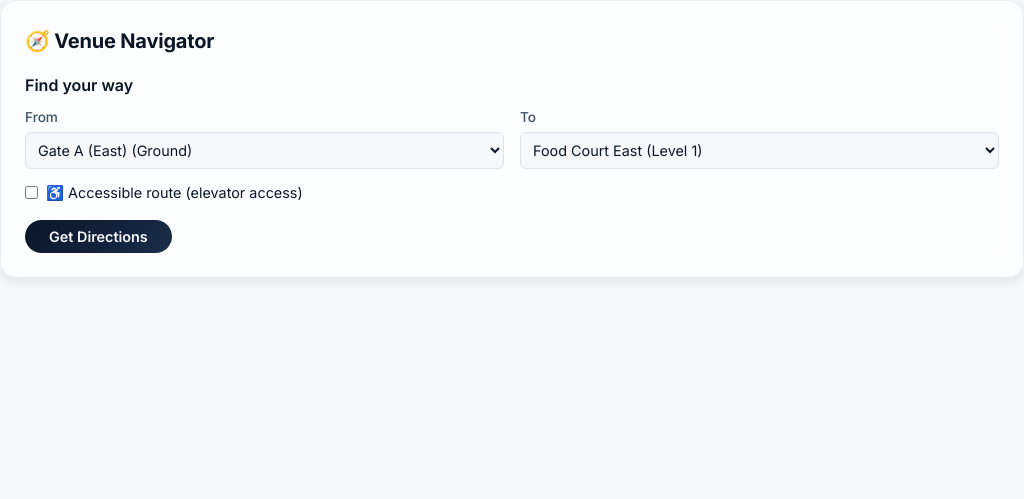
Test: VenueNavigator › includes elevator note when accessible route is selected
// Select different levels to trigger level-change directions
Select "VIP Lounge (Level 3)" in the dropdown labelled "To" at (760, 151), box [520,132,999,169]
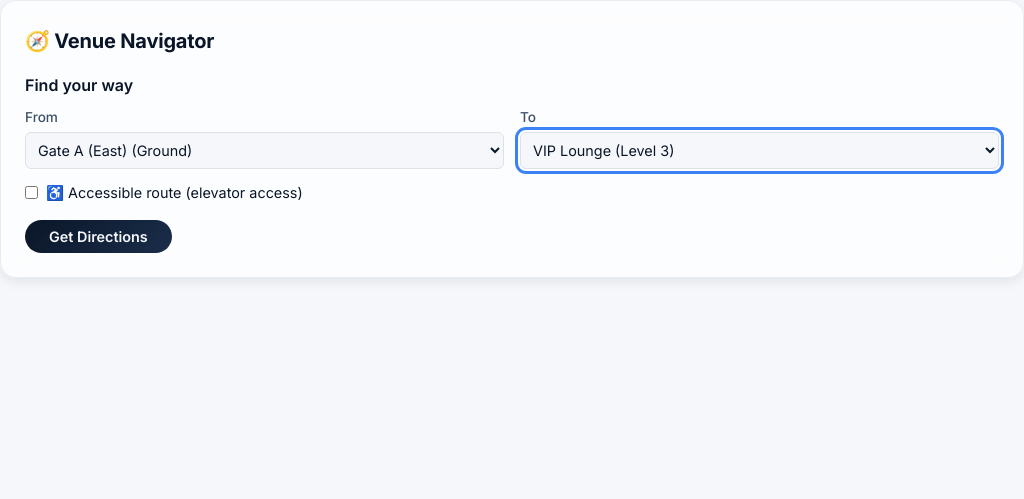
// Enable accessible routing
Click the checkbox labelled "♿ Accessible route (elevator access)" at (32, 193), box [25,186,38,199]
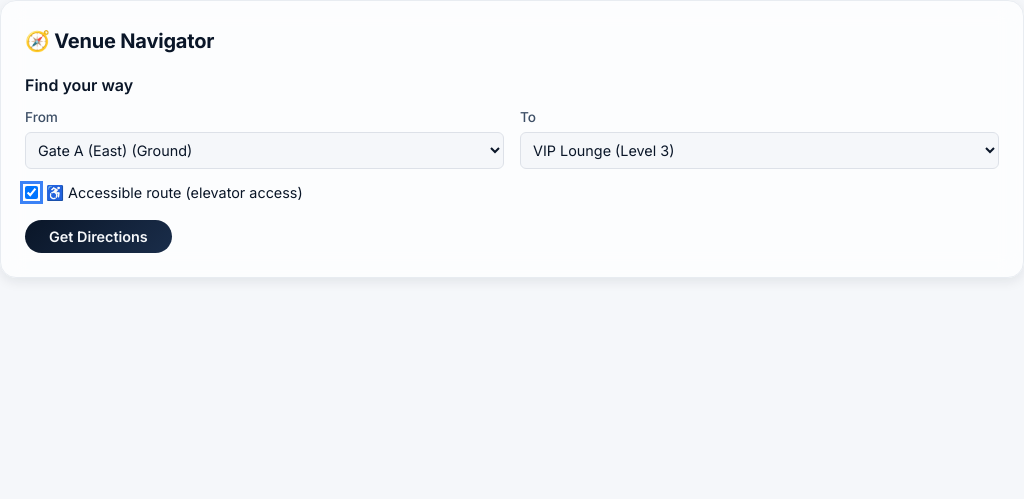
Click the button "Get Directions" at (98, 237), box [25,220,172,253]
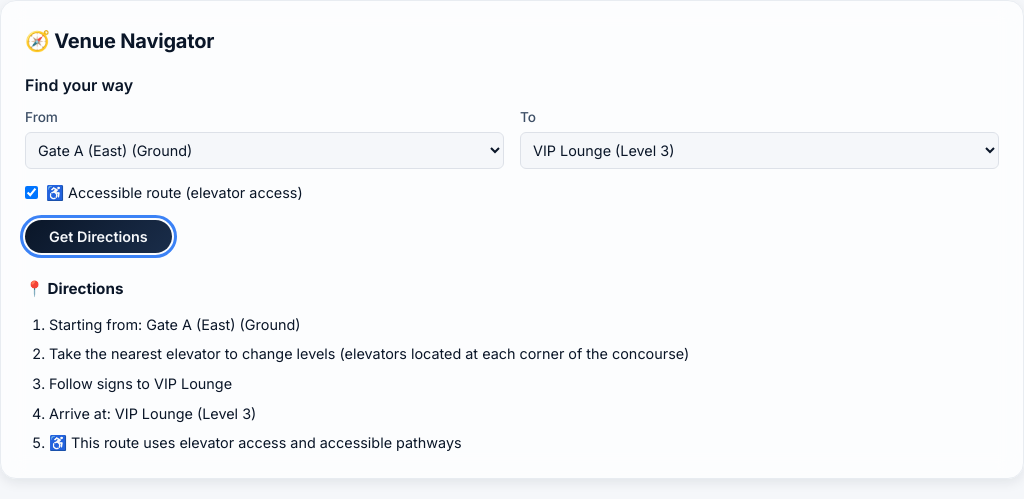
Check: the list item "nearest elevator to change levels" is shown, box [49,345,689,362]
Check: the list item "♿ This route uses elevator access and accessible pathways" is shown, box [49,434,462,451]
